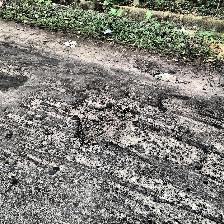pothole: (65, 104, 141, 148)
